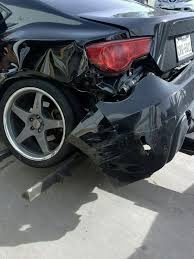Dent: (13, 42, 91, 79)
Scratch: (72, 136, 119, 164)
Smashed: (57, 61, 191, 178)
